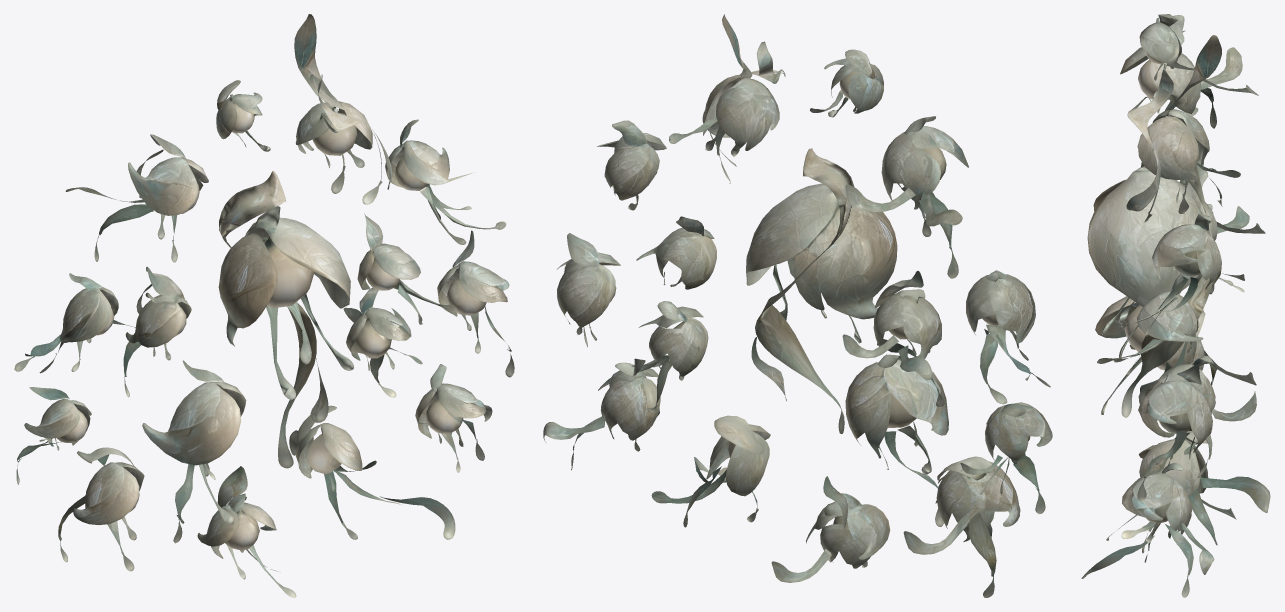
The model's file is tide-lights-lod0.glb.
3 renders of one model, left to right at view 1: azimuth 30°, elevation 25°; view 2: azimuth 150°, elevation 25°; view 3: azimuth 270°, elevation 25°, orthographic. The views are drawn at different scales.
Visible parts, largest first — view 1: tide-lights_SourceMesh; view 2: tide-lights_SourceMesh; view 3: tide-lights_SourceMesh.
Part boxes in pixels (x1=…): tide-lights_SourceMesh: x1=14, y1=14, x2=514, y2=597; tide-lights_SourceMesh: x1=543, y1=14, x2=1052, y2=597; tide-lights_SourceMesh: x1=1081, y1=14, x2=1270, y2=597.
Bounding box in the file's own units: 1.46 × 1.55 × 0.4929.
Materials: 1 (1 with a texture image).
